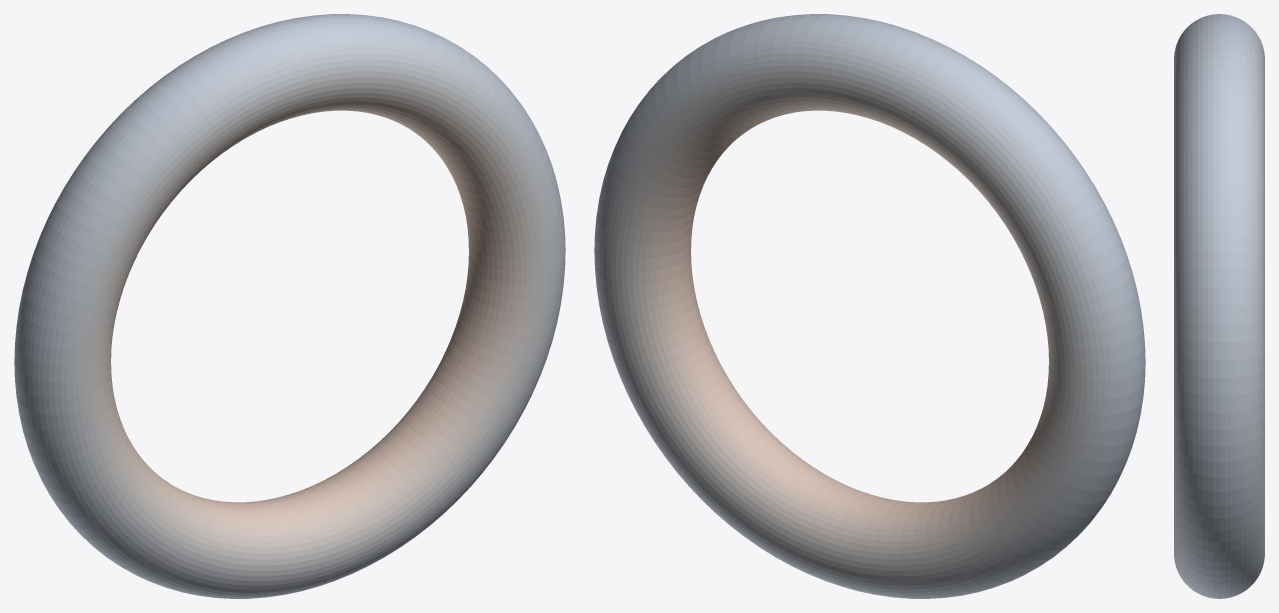
The picture shows the model from 3 angles, left to right: view 1: azimuth 30°, elevation 25°; view 2: azimuth 150°, elevation 25°; view 3: azimuth 270°, elevation 25°; orthographic projection. The views are drawn at different scales.
Parts seen in each view (by area): view 1: world; view 2: world; view 3: world.
Boxes of the visible parts, <box> form: world: <box>14,14,565,598</box>; world: <box>594,14,1145,598</box>; world: <box>1174,14,1264,598</box>.
Size of the model in its own units: 30 by 30 by 4.66.
